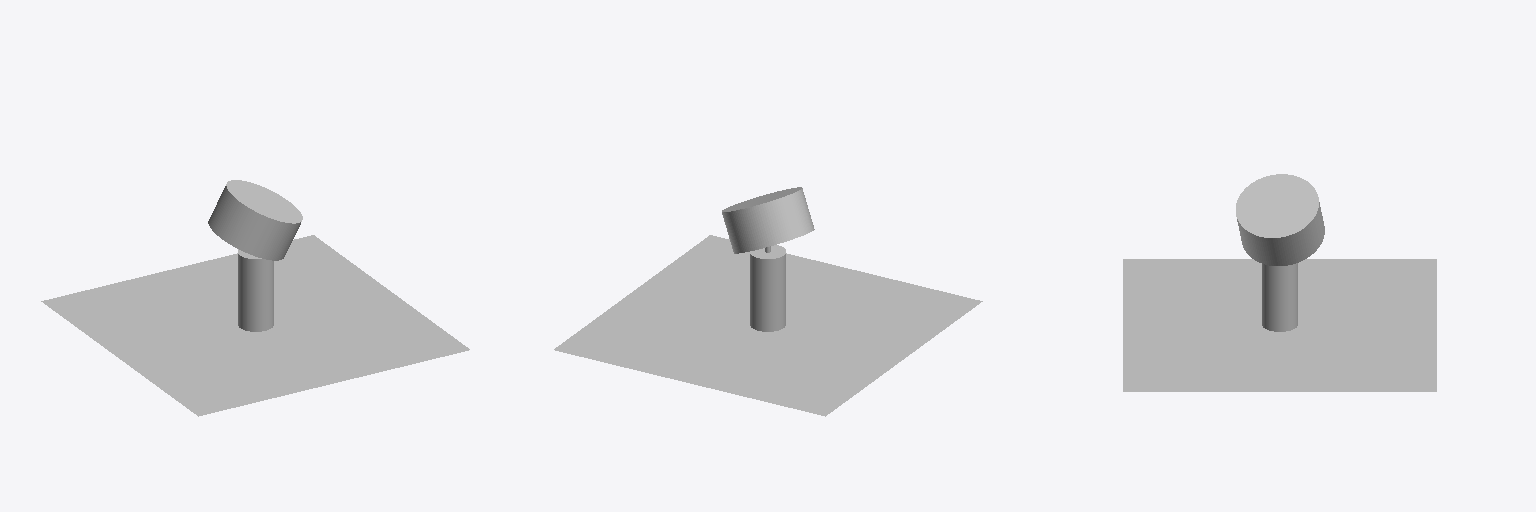
File: lamp1.obj
3 renders of one model, left to right at view 1: azimuth 30°, elevation 25°; view 2: azimuth 150°, elevation 25°; view 3: azimuth 270°, elevation 25°, orthographic.
Visible parts, largest first — view 1: Plane, Cylinder.002, Cylinder; view 2: Plane, Cylinder.002, Cylinder, Cylinder.001; view 3: Plane, Cylinder.002, Cylinder.
Boxes of the visible parts, x1=… form: Plane: x1=41, y1=235, x2=469, y2=416; Cylinder.002: x1=208, y1=180, x2=302, y2=260; Cylinder: x1=238, y1=261, x2=273, y2=331; Plane: x1=554, y1=235, x2=982, y2=416; Cylinder.002: x1=722, y1=187, x2=814, y2=253; Cylinder: x1=750, y1=261, x2=785, y2=331; Cylinder.001: x1=750, y1=245, x2=785, y2=265; Plane: x1=1123, y1=259, x2=1436, y2=391; Cylinder.002: x1=1236, y1=174, x2=1324, y2=265; Cylinder: x1=1262, y1=263, x2=1297, y2=331.
Size of the model in its own units: 17.18 by 8.39 by 17.18.